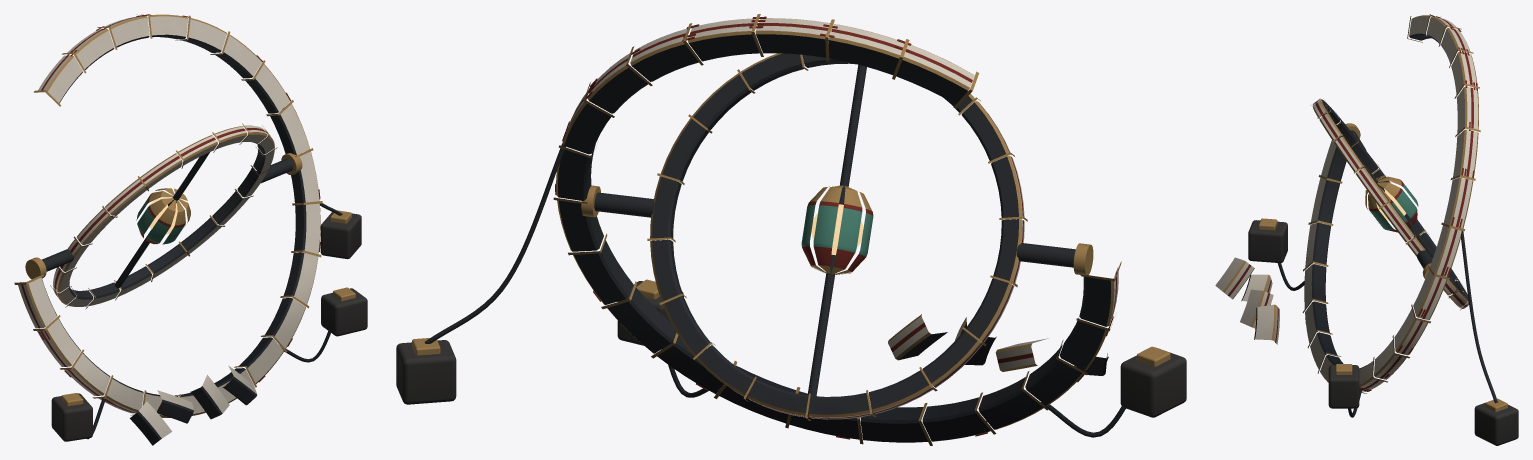
The model's file is sounding-ring.glb.
3 views of the same model, side by side, from view 1: azimuth 30°, elevation 25°; view 2: azimuth 150°, elevation 25°; view 3: azimuth 270°, elevation 25° (orthographic). The views are drawn at different scales.
Visible parts, largest first — view 1: ring-hull; view 2: ring-hull; view 3: ring-hull.
Boxes of the visible parts, <box> form: ring-hull: <box>14,14,367,445</box>; ring-hull: <box>396,14,1186,445</box>; ring-hull: <box>1215,14,1518,445</box>.
Size of the model in its own units: 33.46 by 26.32 by 21.7.
